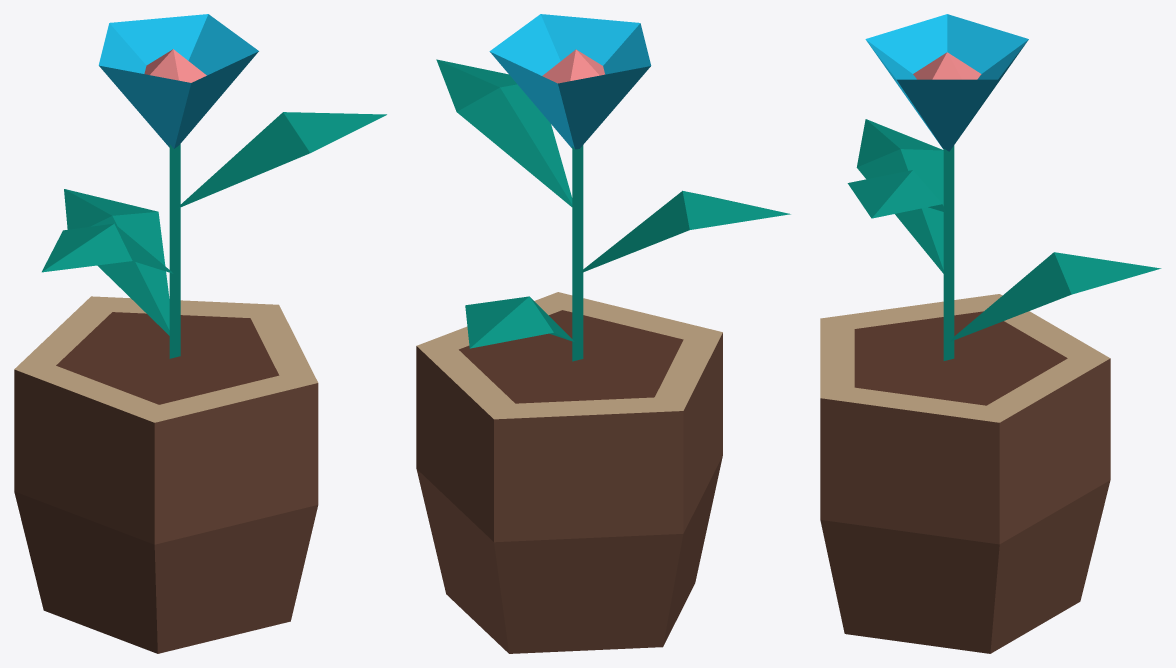
File: TB_Prop_Flowerpot_D.FBX
3 views of the same model, side by side, from view 1: azimuth 30°, elevation 25°; view 2: azimuth 150°, elevation 25°; view 3: azimuth 270°, elevation 25° (orthographic).
Visible parts, largest first — view 1: TB_Prop_Flowerpot_D; view 2: TB_Prop_Flowerpot_D; view 3: TB_Prop_Flowerpot_D.
Boxes of the visible parts, <box> form: TB_Prop_Flowerpot_D: <box>14,14,386,653</box>; TB_Prop_Flowerpot_D: <box>416,14,790,653</box>; TB_Prop_Flowerpot_D: <box>820,14,1161,653</box>.
Size of the model in its own units: 0.578 by 0.8735 by 0.49.
